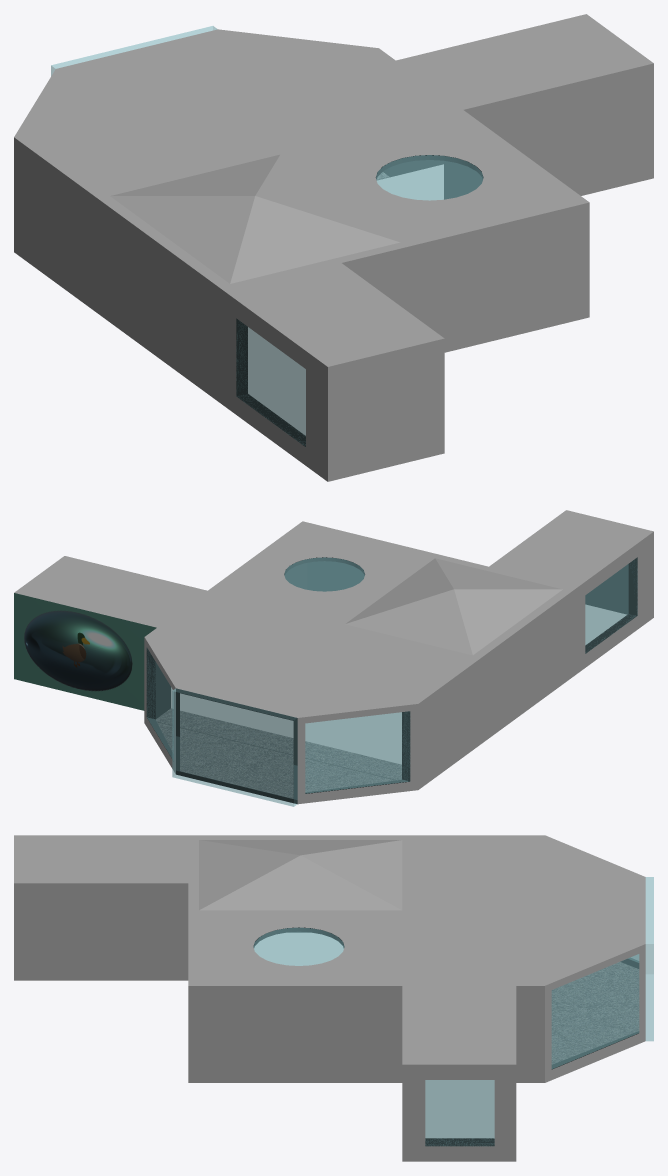
The model's file is HUBLobbyTemp.fbx.
The picture shows the model from 3 angles, top to bottom: view 1: azimuth 30°, elevation 25°; view 2: azimuth 150°, elevation 25°; view 3: azimuth 270°, elevation 25°; orthographic projection. The views are drawn at different scales.
Visible parts, largest first — view 1: polySurface2, window1:HUB:pCube1, pCylinder2; view 2: polySurface2, pCube4, window1:HUB:pCube1, pCylinder2; view 3: polySurface2, pCube4, window2:HUB1:pCube1, pCylinder2.
Part boxes in pixels (box(x1,y1,x2,y2)): polySurface2: box(14, 14, 653, 481); window1:HUB:pCube1: box(236, 319, 305, 446); pCylinder2: box(376, 155, 483, 200); polySurface2: box(14, 510, 653, 806); pCube4: box(146, 648, 410, 793); window1:HUB:pCube1: box(585, 557, 637, 653); pCylinder2: box(284, 557, 364, 591); polySurface2: box(14, 835, 653, 1161); pCube4: box(551, 954, 639, 1068); window2:HUB1:pCube1: box(425, 1080, 494, 1146); pCylinder2: box(253, 927, 344, 965).
Size of the model in its own units: 2125 by 506 by 2506.
